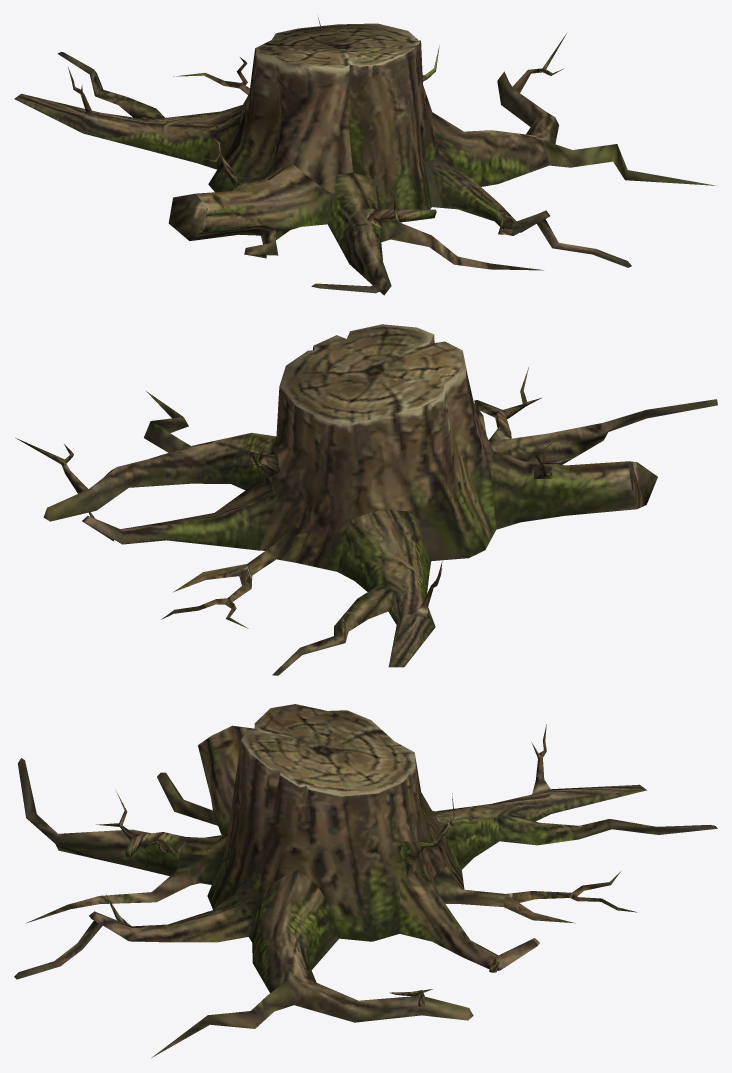
Rendered from S_Tree_Yellow066.FBX.
3 views of the same model, one above another, from view 1: azimuth 30°, elevation 25°; view 2: azimuth 150°, elevation 25°; view 3: azimuth 270°, elevation 25° (orthographic). The views are drawn at different scales.
Parts seen in each view (by area): view 1: S_Tree_Yellow066; view 2: S_Tree_Yellow066; view 3: S_Tree_Yellow066.
Boxes of the visible parts, x1,y1,x2,y2 form: S_Tree_Yellow066: [14, 17, 716, 295]; S_Tree_Yellow066: [15, 324, 717, 675]; S_Tree_Yellow066: [14, 704, 717, 1057].
Size of the model in its own units: 164 by 191 by 51.35.
